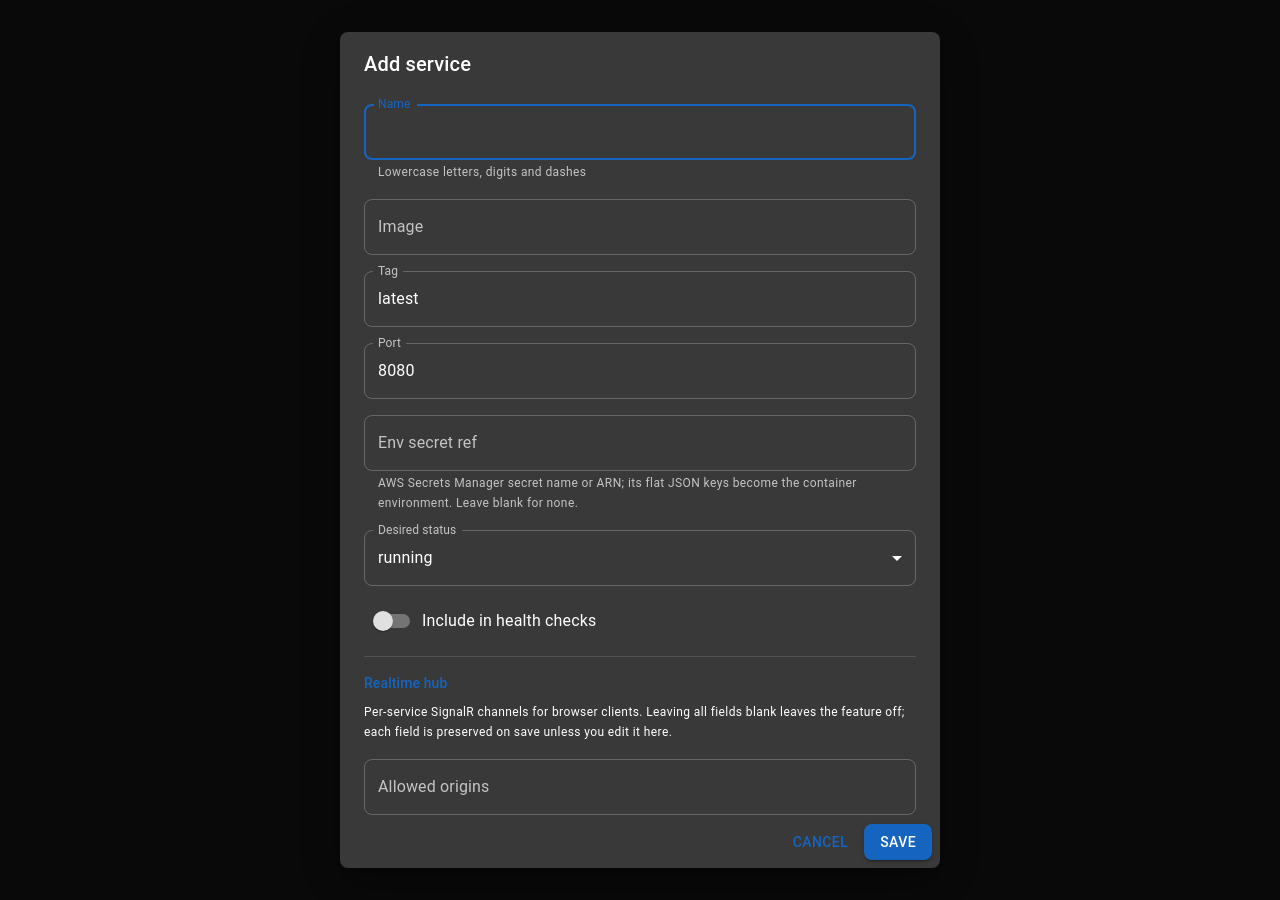
Scenario: ServiceFormDialog › renders the API error inline and stays open
The image size is (1280, 900).
Step 1. Type "api" into the field labelled "Name" → (640, 132), box [364,104,916,160]
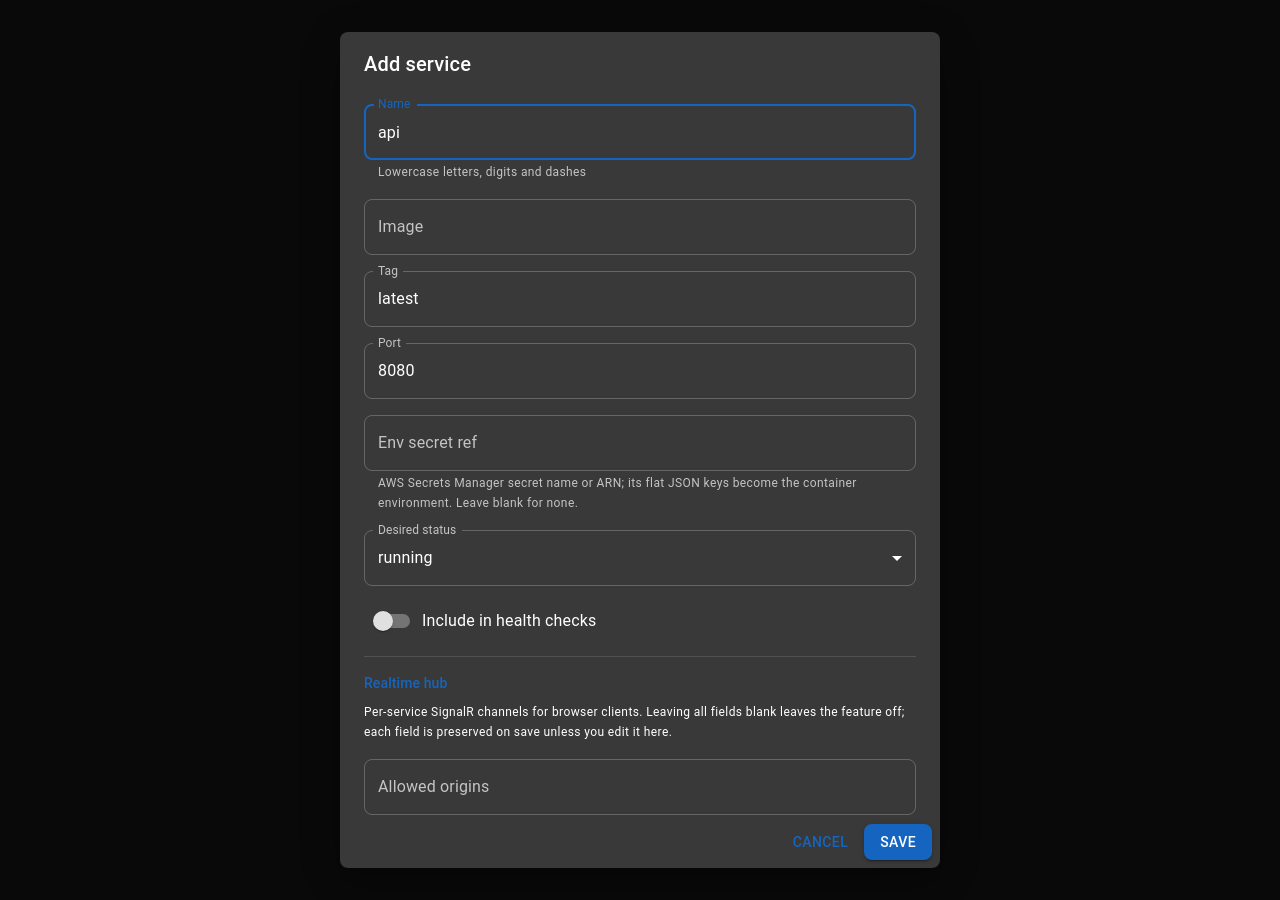
Step 2. Type "registry/api" into the field labelled "Image" → (640, 227), box [364,199,916,255]
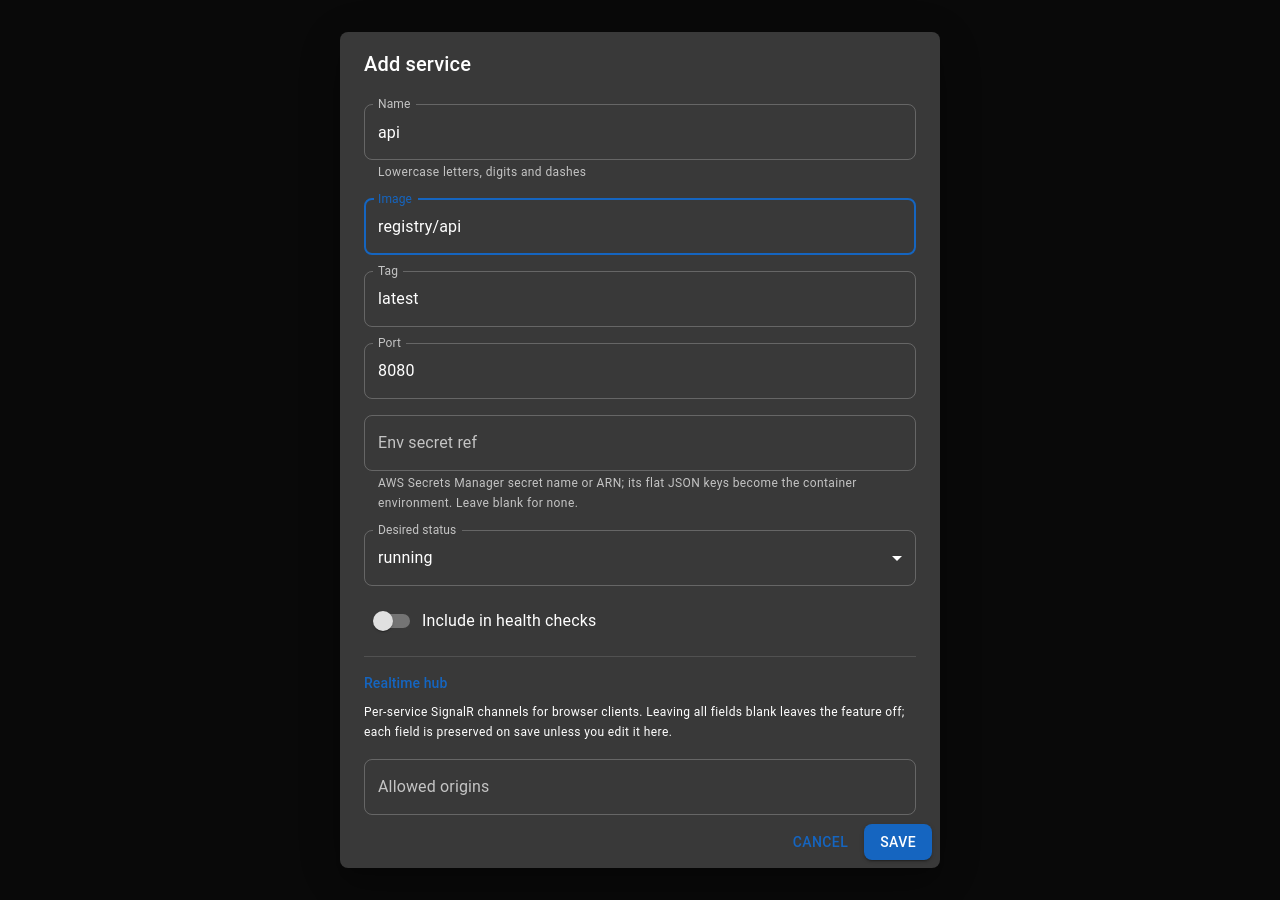
Step 3. Click the button "Save" → (898, 842), box [864,824,932,860]
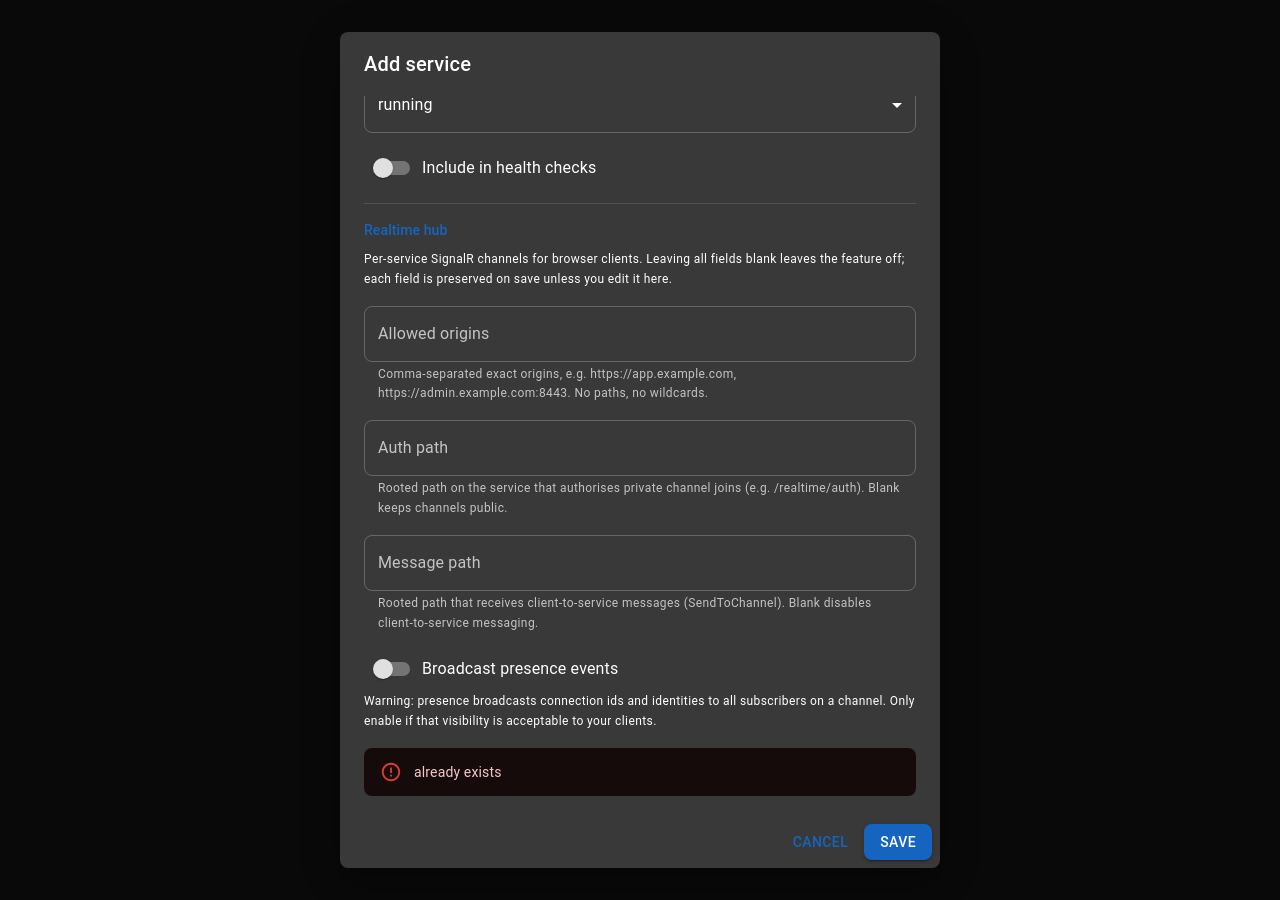
Now the text "already exists" is shown, box [414,764,502,780]
